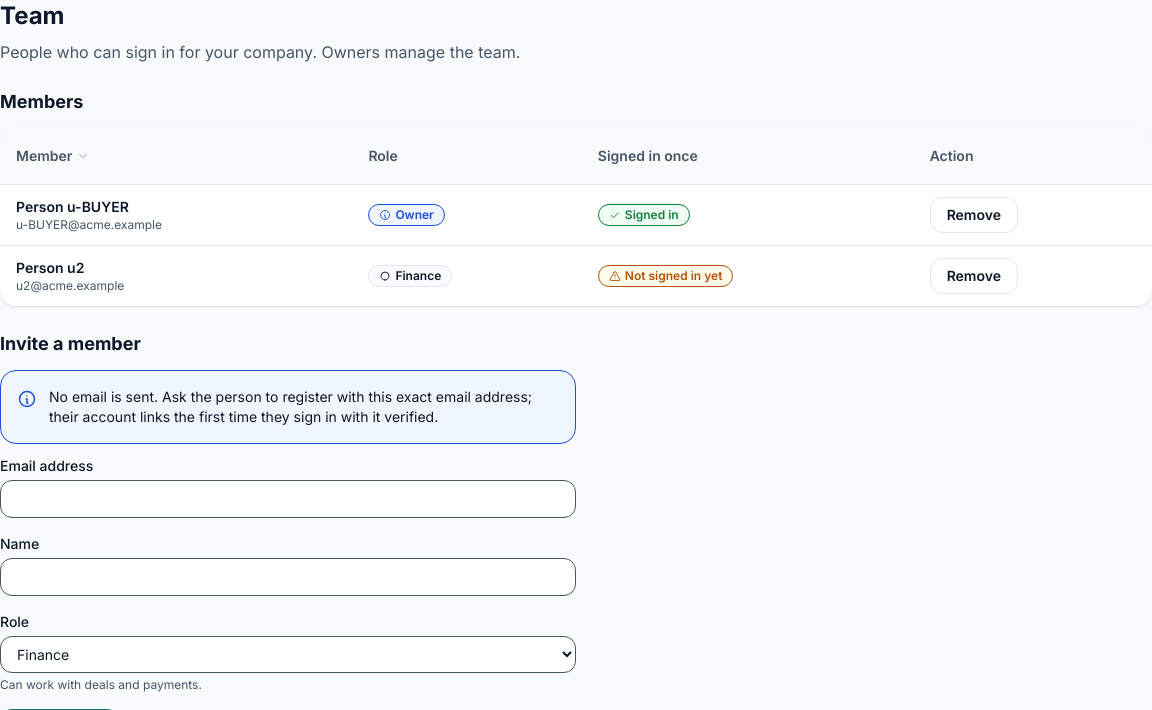
Test: TeamPage › asks before removing and maps LAST_OWNER inside the dialog
Click the button with aria-label "Remove Person u2" at [974, 276], box 930,258 -> 1018,294
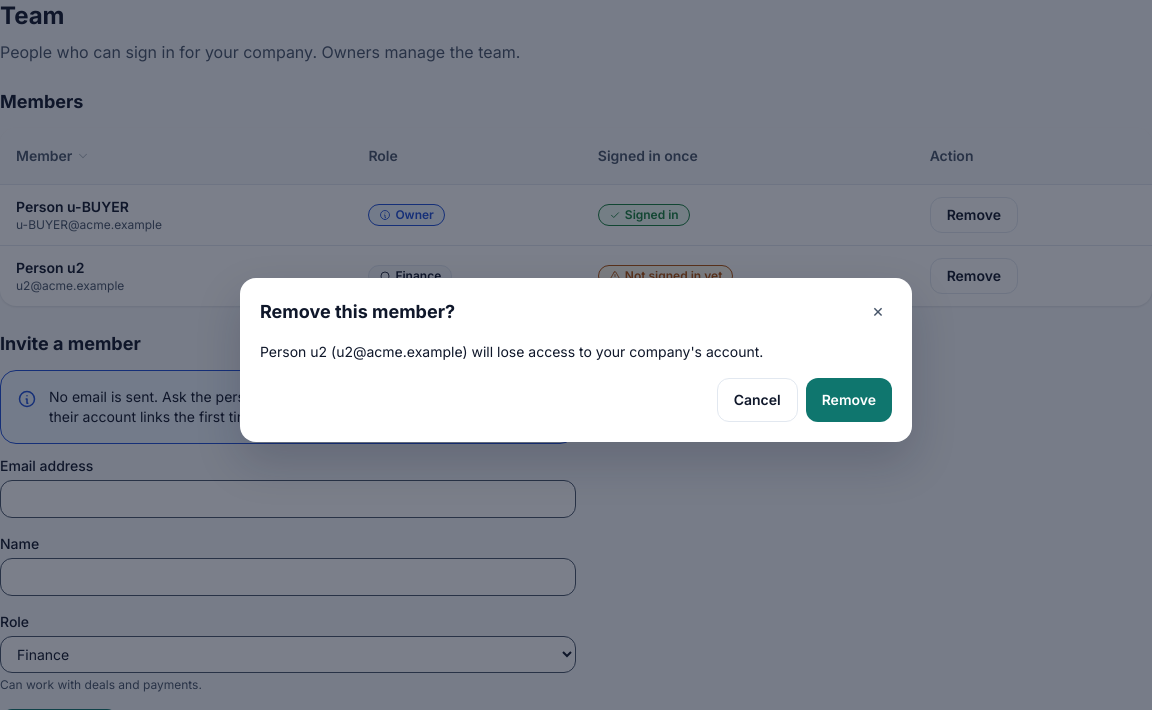
Click the button "Remove" at [849, 400], box 806,378 -> 892,422
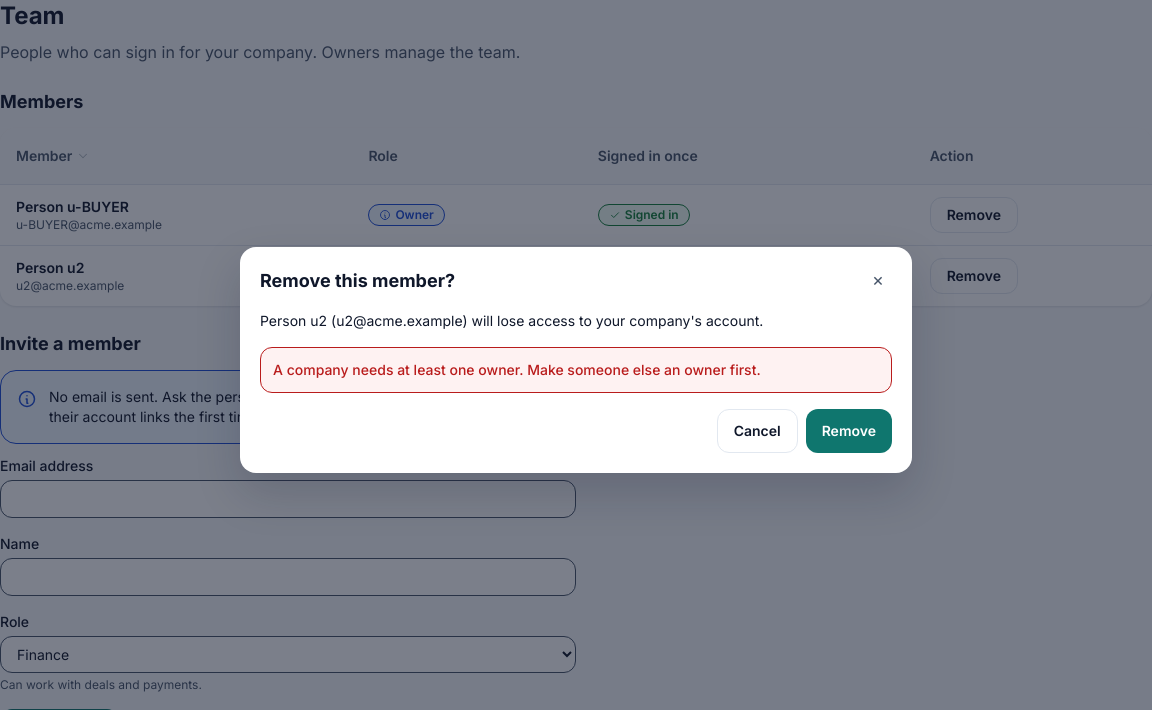
Now the message shows "at least one owner", box 273,361 -> 761,378
